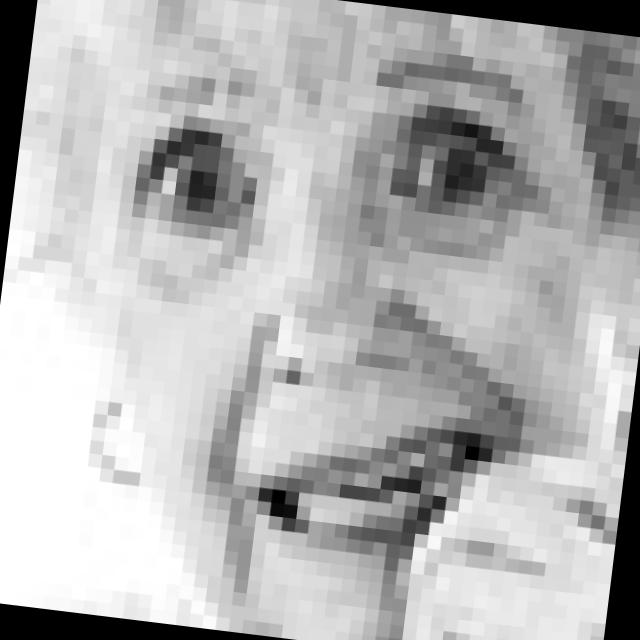fear: (84, 22, 586, 587)
